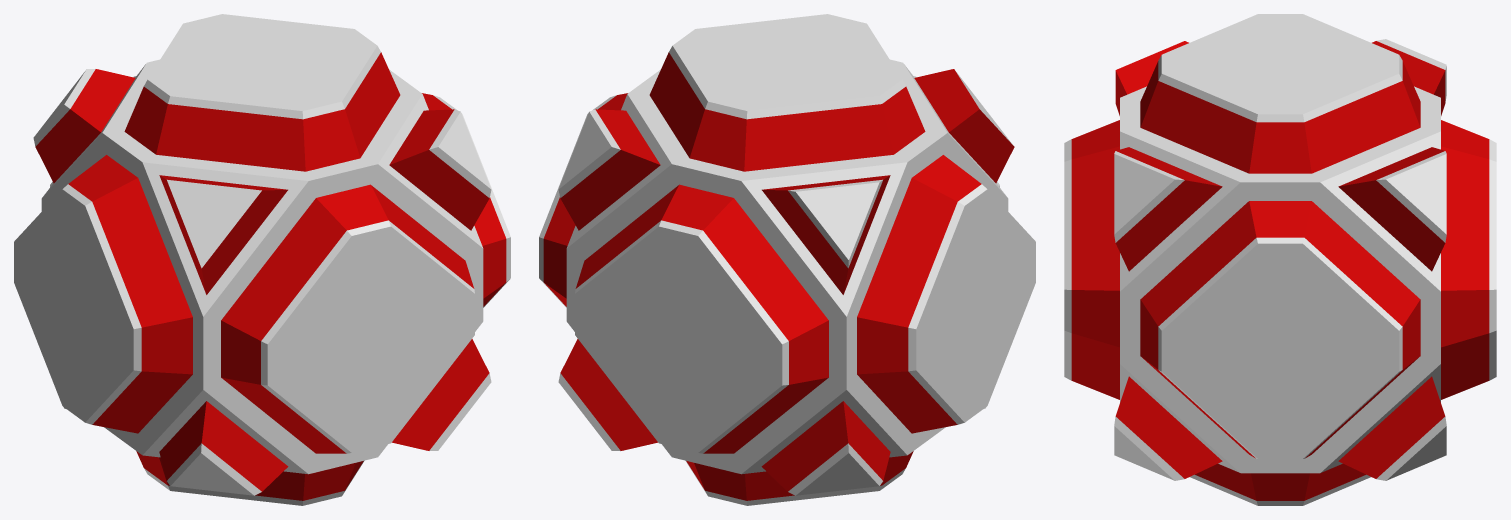
The model's file is Weapon_Mine.fbx.
3 views of the same model, side by side, from view 1: azimuth 30°, elevation 25°; view 2: azimuth 150°, elevation 25°; view 3: azimuth 270°, elevation 25° (orthographic).
Visible parts, largest first — view 1: Wepon_Mine; view 2: Wepon_Mine; view 3: Wepon_Mine.
Part boxes in pixels (<box>): Wepon_Mine: <box>14,14,510,505</box>; Wepon_Mine: <box>539,14,1035,505</box>; Wepon_Mine: <box>1064,14,1496,505</box>.
Size of the model in its own units: 10.57 by 10.57 by 10.57.
